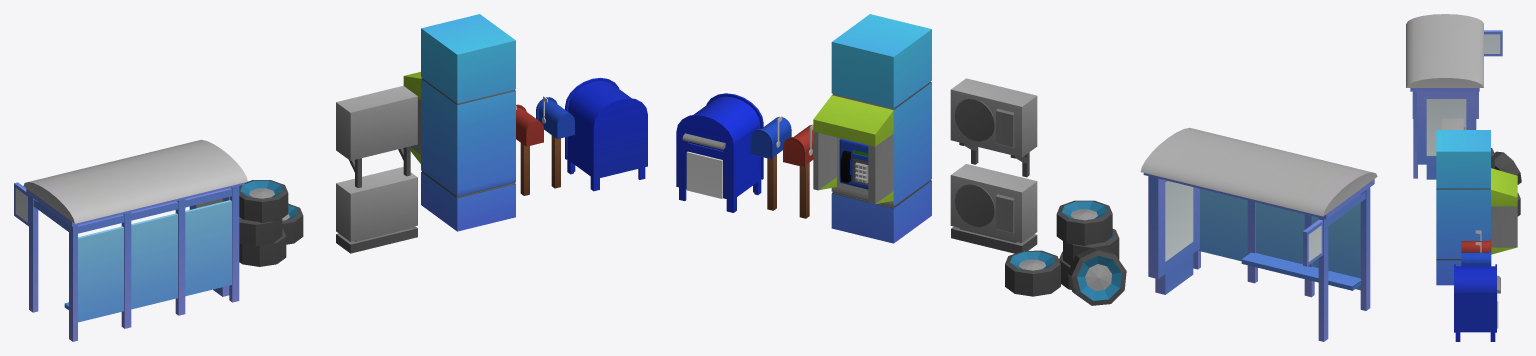
File: SM_Exterior_PropsVariados.fbx
3 renders of one model, left to right at view 1: azimuth 30°, elevation 25°; view 2: azimuth 150°, elevation 25°; view 3: azimuth 270°, elevation 25°, orthographic. The views are drawn at different scales.
Visible parts, largest first — view 1: SM_Exterior_ParadaBus, SM_Exterior_CabinaTelefonica, SM_Exterior_Correo, SM_Exterior_AireAcondicionadoSuelo, SM_Exterior_AireAcondicionado, SM_Exterior_MonticulosRuedas, SM_Exterior_BuzonAzul, SM_Exterior_BuzonRojo; view 2: SM_Exterior_ParadaBus, SM_Exterior_CabinaTelefonica, SM_Exterior_MonticulosRuedas, SM_Exterior_Correo, SM_Exterior_AireAcondicionadoSuelo, SM_Exterior_AireAcondicionado, SM_Exterior_BuzonAzul, SM_Exterior_BuzonRojo; view 3: SM_Exterior_ParadaBus, SM_Exterior_CabinaTelefonica, SM_Exterior_Correo, SM_Exterior_MonticulosRuedas, SM_Exterior_BuzonAzul, SM_Exterior_BuzonRojo, SM_Exterior_AireAcondicionado.
Boxes of the visible parts, x1,y1,x2,y2 form: SM_Exterior_ParadaBus: (14,139,247,341); SM_Exterior_CabinaTelefonica: (403,14,515,231); SM_Exterior_Correo: (565,78,647,191); SM_Exterior_AireAcondicionadoSuelo: (336,167,417,253); SM_Exterior_AireAcondicionado: (336,85,417,187); SM_Exterior_MonticulosRuedas: (239,180,303,266); SM_Exterior_BuzonAzul: (536,96,574,188); SM_Exterior_BuzonRojo: (516,104,543,195); SM_Exterior_ParadaBus: (1140,127,1377,341); SM_Exterior_CabinaTelefonica: (813,14,931,243); SM_Exterior_MonticulosRuedas: (1005,200,1126,305); SM_Exterior_Correo: (676,93,763,212); SM_Exterior_AireAcondicionadoSuelo: (950,164,1037,253); SM_Exterior_AireAcondicionado: (950,78,1037,177); SM_Exterior_BuzonAzul: (750,116,791,210); SM_Exterior_BuzonRojo: (783,124,813,218); SM_Exterior_ParadaBus: (1406,14,1502,179); SM_Exterior_CabinaTelefonica: (1436,130,1517,285); SM_Exterior_Correo: (1454,264,1500,341); SM_Exterior_MonticulosRuedas: (1491,148,1521,216); SM_Exterior_BuzonAzul: (1461,242,1491,266); SM_Exterior_BuzonRojo: (1461,230,1491,252); SM_Exterior_AireAcondicionado: (1441,118,1465,129).
Bounding box in the file's own units: 1583 × 456 × 347.
